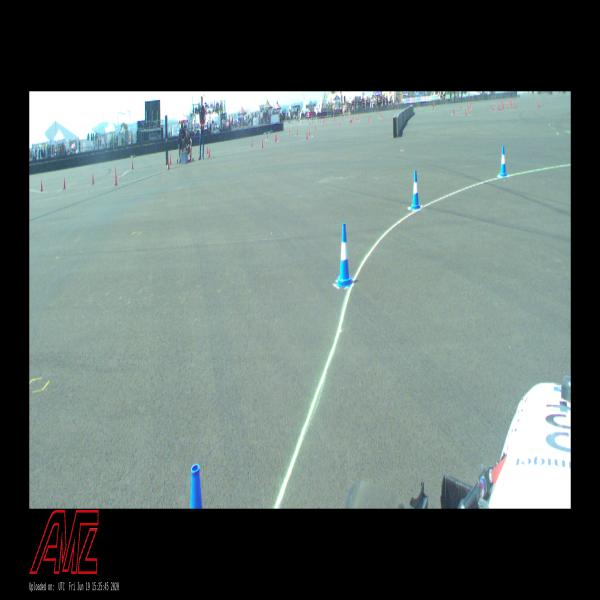blue_cone: (336, 223, 353, 287), (190, 464, 203, 508), (410, 170, 421, 210), (499, 145, 508, 177)
